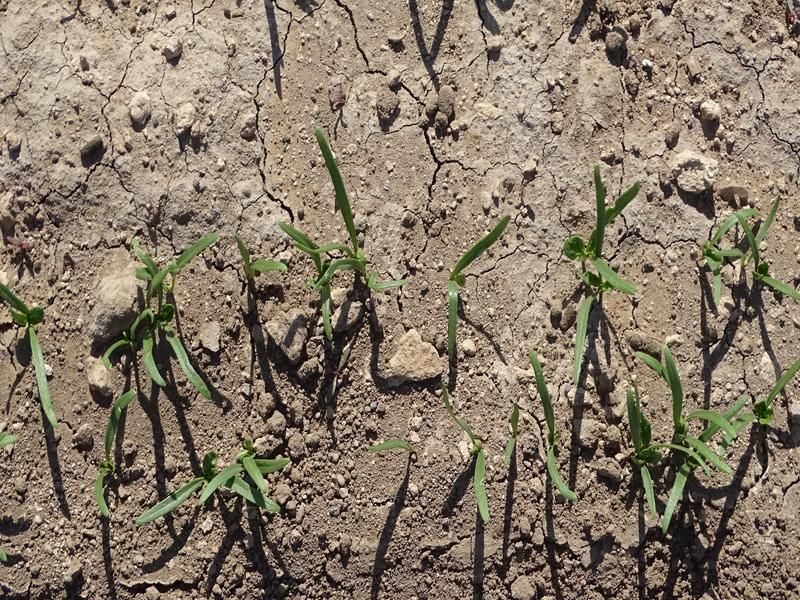Espinaca: (626, 355, 797, 525), (92, 229, 226, 399), (285, 149, 397, 325), (569, 178, 636, 382), (441, 214, 517, 384), (137, 447, 295, 526), (709, 201, 798, 304), (2, 285, 62, 432), (83, 385, 142, 521), (529, 353, 578, 505), (456, 418, 499, 521), (238, 239, 289, 277)
